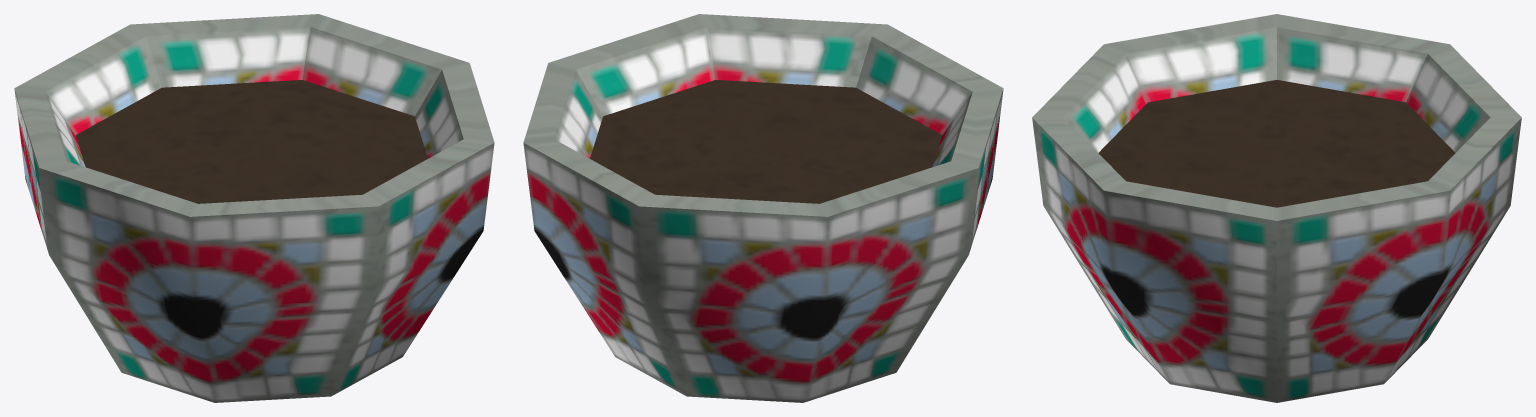
The model's file is street_restaurant_flowerbedcircle.FBX.
3 renders of one model, left to right at view 1: azimuth 30°, elevation 25°; view 2: azimuth 150°, elevation 25°; view 3: azimuth 270°, elevation 25°, orthographic.
Visible parts, largest first — view 1: street_restaurant_flowerbedcircle; view 2: street_restaurant_flowerbedcircle; view 3: street_restaurant_flowerbedcircle.
Boxes of the visible parts, x1,y1,x2,y2 form: street_restaurant_flowerbedcircle: (14,14,494,402); street_restaurant_flowerbedcircle: (523,14,1003,402); street_restaurant_flowerbedcircle: (1032,14,1521,402).
Size of the model in its own units: 59.32 by 29.61 by 59.32.
